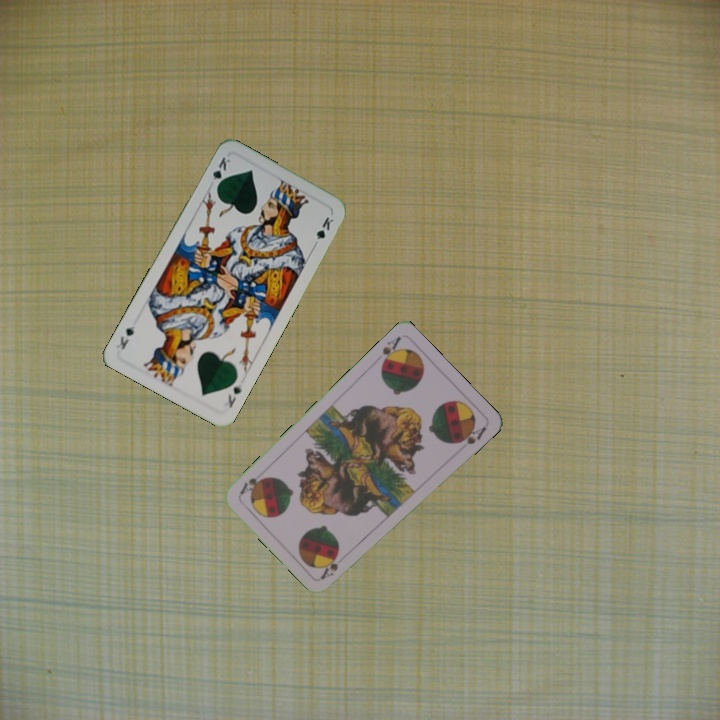GK: (209, 152, 233, 192), (224, 379, 245, 411)
SA: (377, 333, 403, 370), (317, 559, 341, 582)
